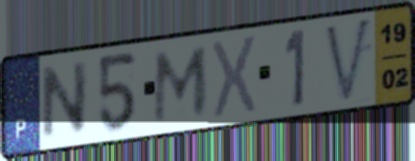1: (281, 26, 307, 110)
5: (96, 47, 139, 137)
M: (151, 43, 211, 126)
N: (39, 58, 91, 143)
V: (322, 13, 374, 107)
X: (210, 31, 259, 121)
